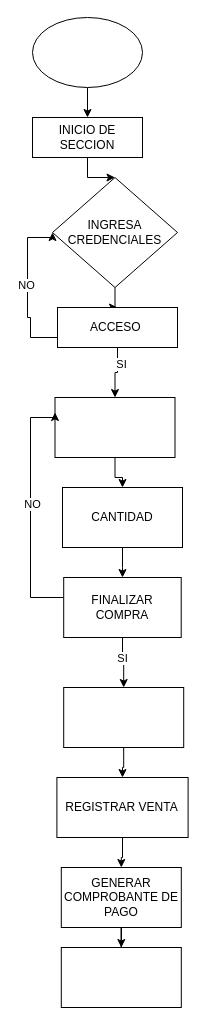
The diagram is 206 pixels wide and 1025 high, and some of its shapes have lost their labels. The shapes that lost their labels are listed below. From the top down, each one's centre as x and y in pixels, then its label:
pixel 87 52: INICIO
pixel 114 427: INGRESAR PRODUCTO
pixel 123 717: CALCULAR TOTAL
pixel 120 977: FIN
